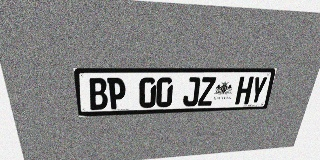0: (139, 77, 156, 108), (156, 77, 173, 107)
B: (88, 78, 108, 110)
H: (235, 77, 254, 104)
J: (182, 77, 201, 106)
P: (107, 78, 126, 109)
Y: (249, 76, 268, 104)
Z: (198, 77, 216, 106)
